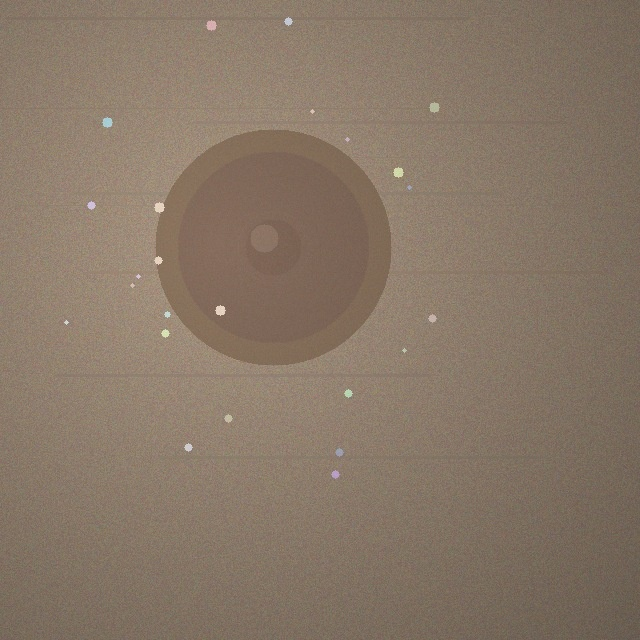overburn: (155, 129, 391, 365)
